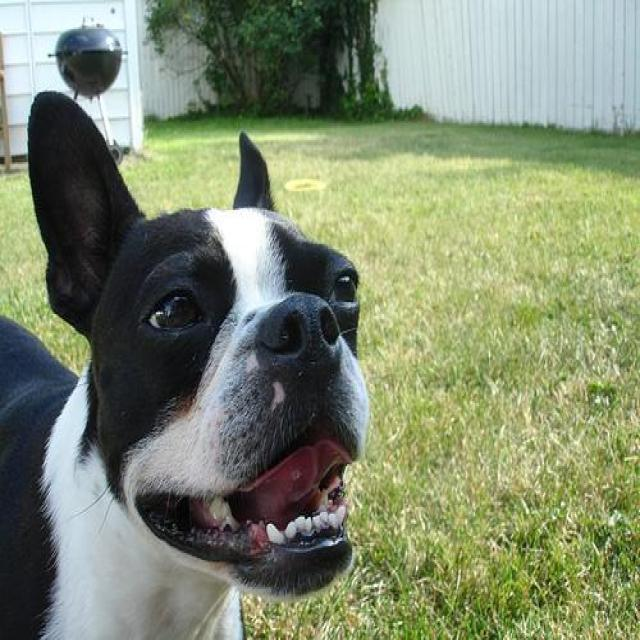happy: (1, 62, 372, 640)
